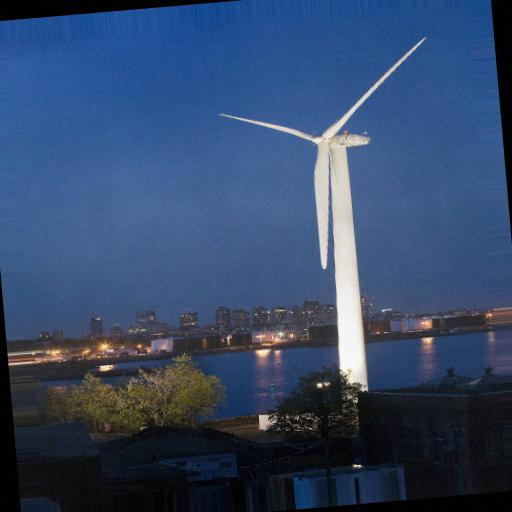wind turbine: (219, 37, 427, 398)
